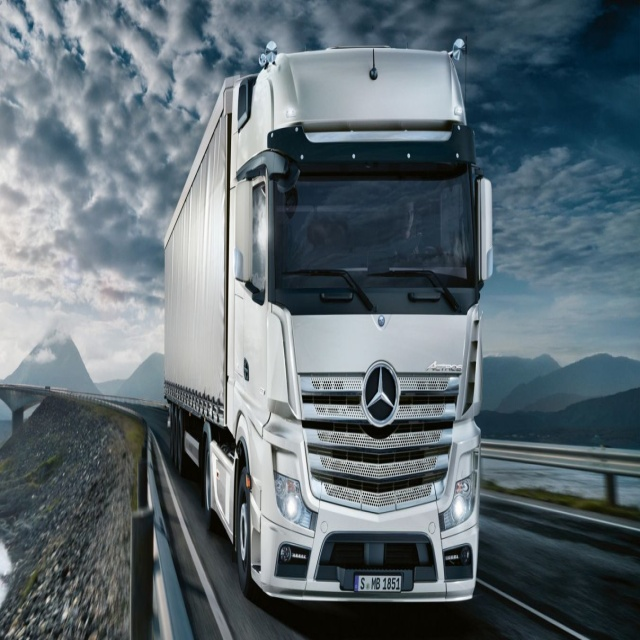truck: (162, 39, 491, 605)
